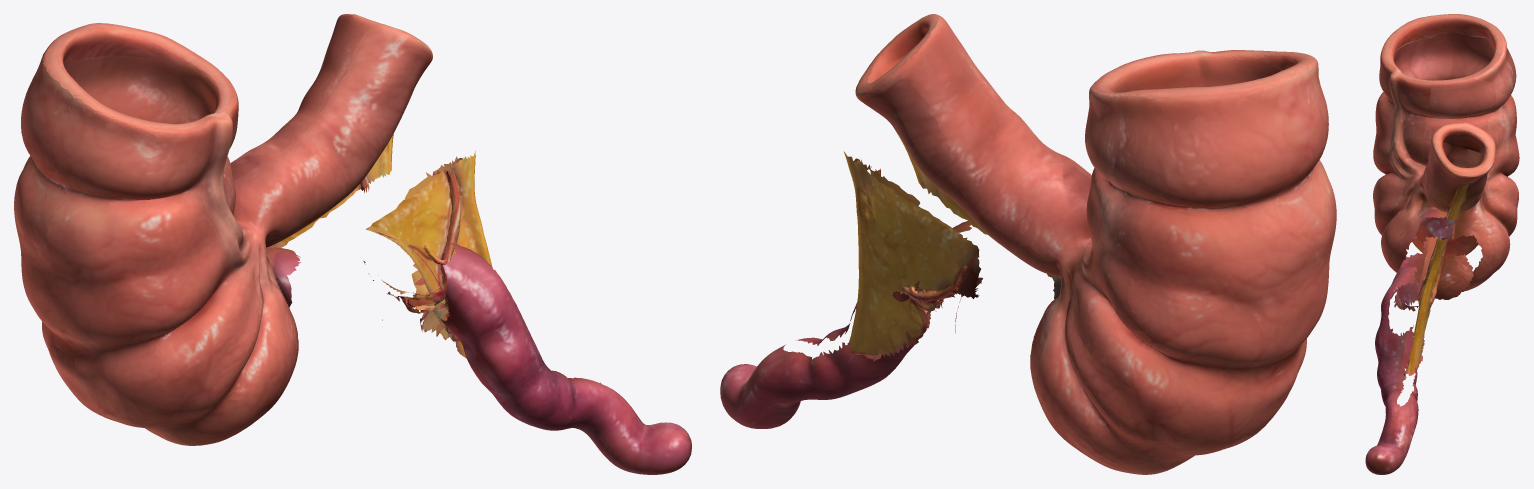
The model's file is 03-layers.glb.
3 renders of one model, left to right at view 1: azimuth 30°, elevation 25°; view 2: azimuth 150°, elevation 25°; view 3: azimuth 270°, elevation 25°, orthographic. The views are drawn at different scales.
Parts seen in each view (by area): view 1: cecum, ileum, appendix, mesoappendix; view 2: cecum, ileum, mesoappendix, appendix; view 3: cecum, appendix, ileum, mesoappendix.
Part boxes in pixels (box(x1,y1,x2,y2)): cecum: box(14, 23, 298, 445); ileum: box(248, 14, 432, 276); appendix: box(439, 242, 691, 474); mesoappendix: box(363, 151, 491, 358); cecum: box(1030, 50, 1336, 474); ileum: box(855, 14, 1076, 280); mesoappendix: box(844, 151, 982, 361); appendix: box(720, 281, 930, 428); cecum: box(1373, 14, 1519, 291); appendix: box(1365, 266, 1433, 474); ileum: box(1420, 122, 1495, 220); mesoappendix: box(1397, 236, 1473, 375).
Size of what is drawn, in the model's own units: 2.35 by 1.85 by 0.8617.
1 material, 1 textured.
